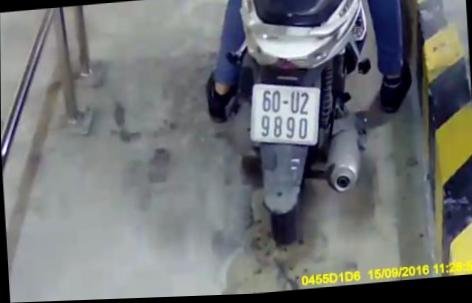LP: (246, 80, 324, 154)
